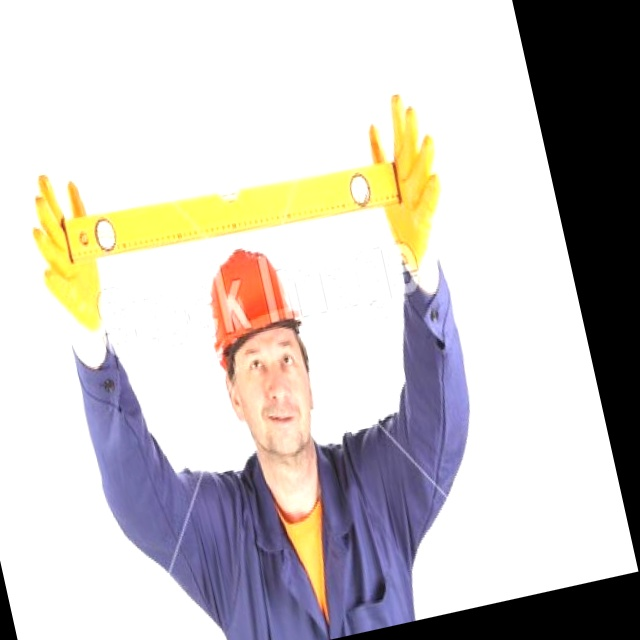Sin_Chaleco: (176, 415, 428, 640)
